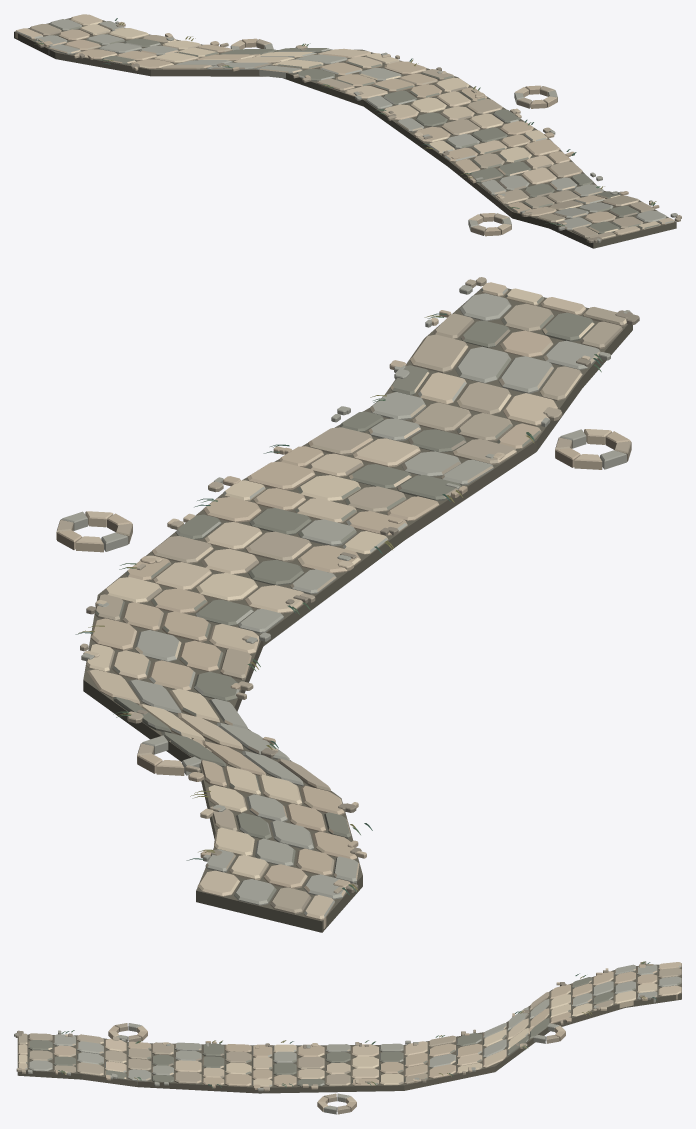
Rendered from chaussee_estran.glb.
3 views of the same model, one above another, from view 1: azimuth 30°, elevation 25°; view 2: azimuth 150°, elevation 25°; view 3: azimuth 270°, elevation 25° (orthographic). The views are drawn at different scales.
Parts seen in each view (by area): view 1: Dalles et épaulements, Fond de la chaussée, Galets, sédiments et varech; view 2: Dalles et épaulements, Fond de la chaussée, Galets, sédiments et varech; view 3: Dalles et épaulements, Fond de la chaussée, Galets, sédiments et varech.
Boxes of the visible parts, <box> form: Dalles et épaulements: <box>15,14,674,239</box>; Fond de la chaussée: <box>14,18,676,248</box>; Galets, sédiments et varech: <box>34,18,681,242</box>; Dalles et épaulements: <box>56,282,631,928</box>; Fond de la chaussée: <box>83,288,632,932</box>; Galets, sédiments et varech: <box>75,277,639,895</box>; Dalles et épaulements: <box>18,962,681,1114</box>; Fond de la chaussée: <box>17,963,681,1093</box>; Galets, sédiments et varech: <box>14,961,657,1091</box>.
Size of what is drawn, in the model's own units: 11.74 by 0.845 by 22.37.
